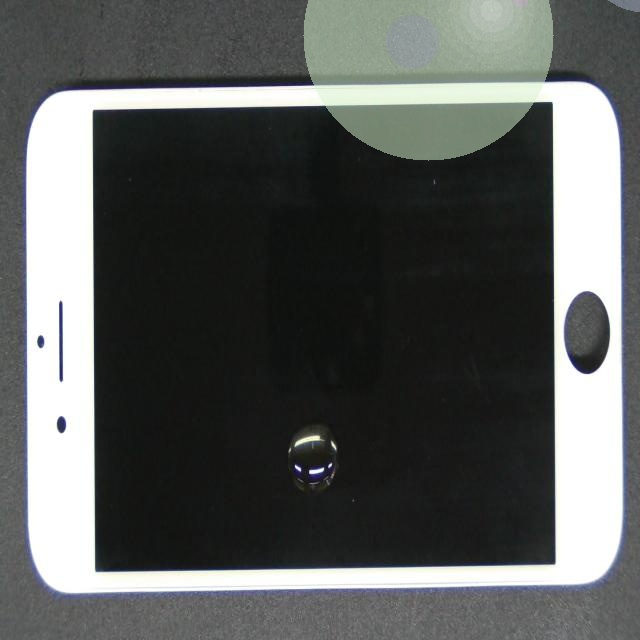oil: (174, 242, 508, 640)
